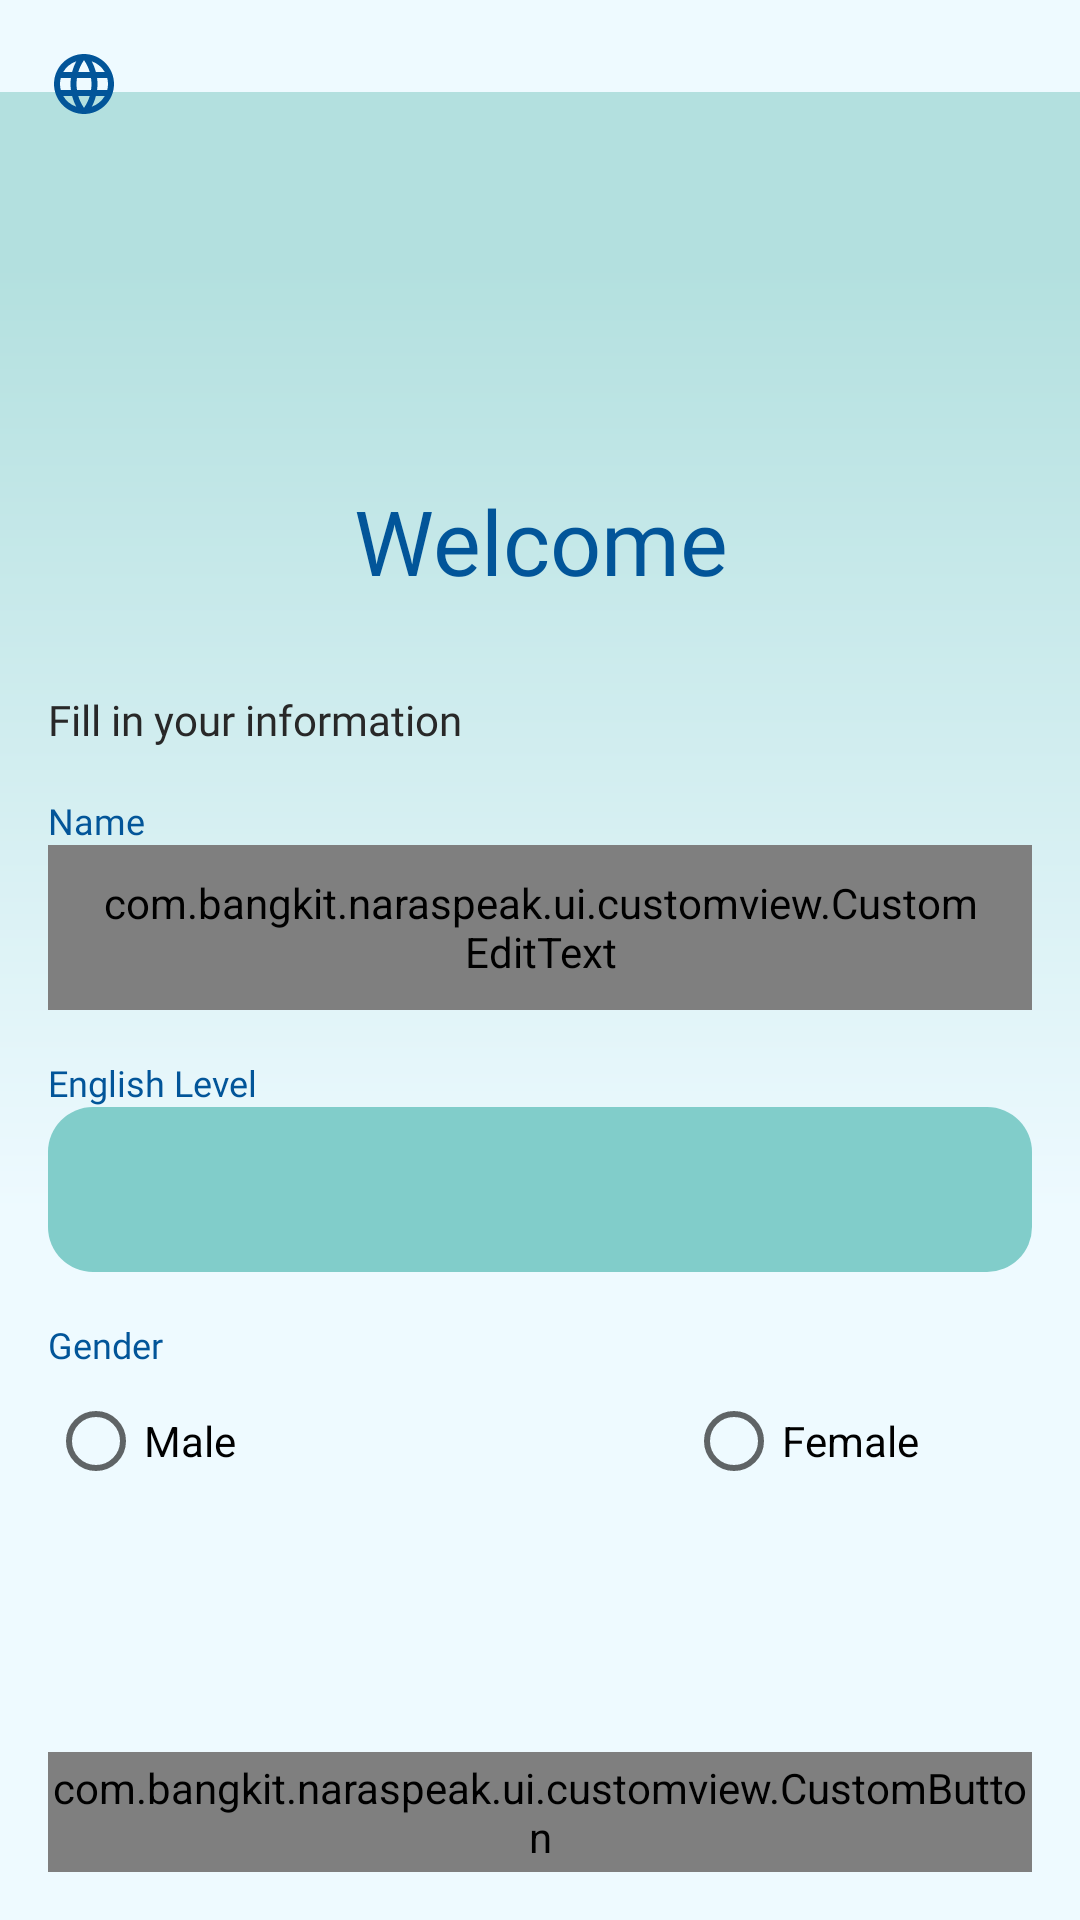

Point at icon controls on the screen. Image size 1080*1920, points as point (x, y).
language: point (84, 84)
